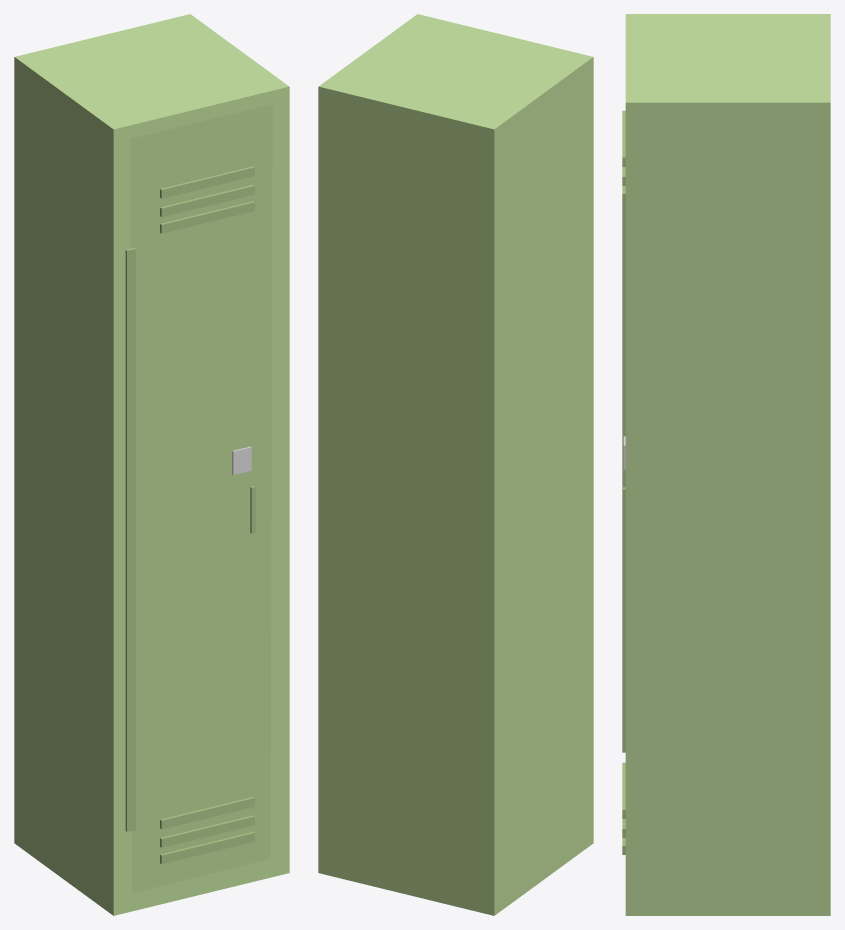
Rendered from locker_2.fbx.
The picture shows the model from 3 angles, left to right: view 1: azimuth 30°, elevation 25°; view 2: azimuth 150°, elevation 25°; view 3: azimuth 270°, elevation 25°; orthographic projection. The views are drawn at different scales.
Visible parts, largest first — view 1: Cube_4; view 2: Cube_4; view 3: Cube_4.
Boxes of the visible parts, x1,y1,x2,y2 form: Cube_4: (14,14,289,915); Cube_4: (318,14,593,915); Cube_4: (622,14,830,915).
Size of the model in its own units: 63.35 by 271 by 62.81.
